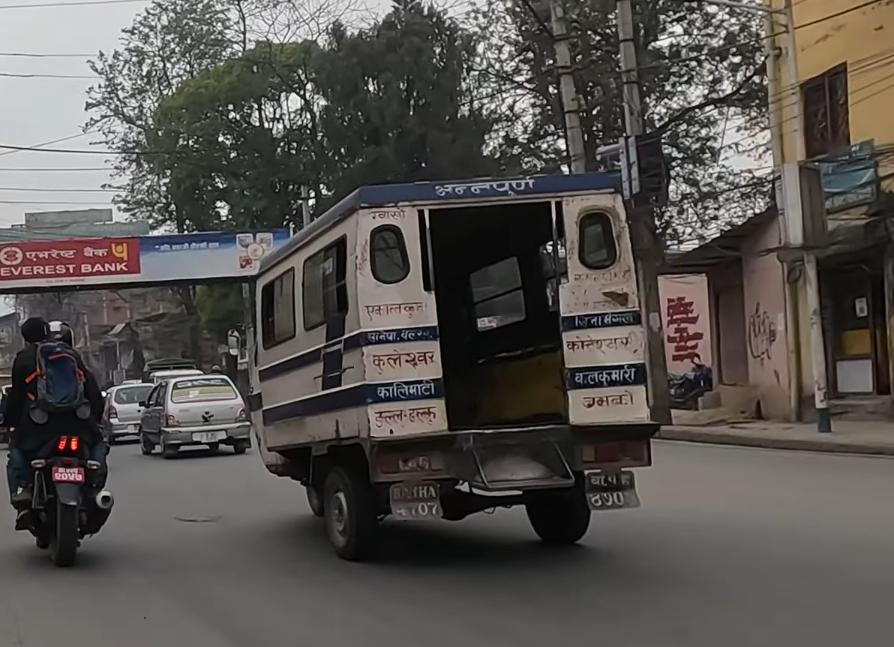bike: (5, 375, 115, 571)
taxi: (135, 373, 251, 453)
tempo: (222, 159, 660, 562)
